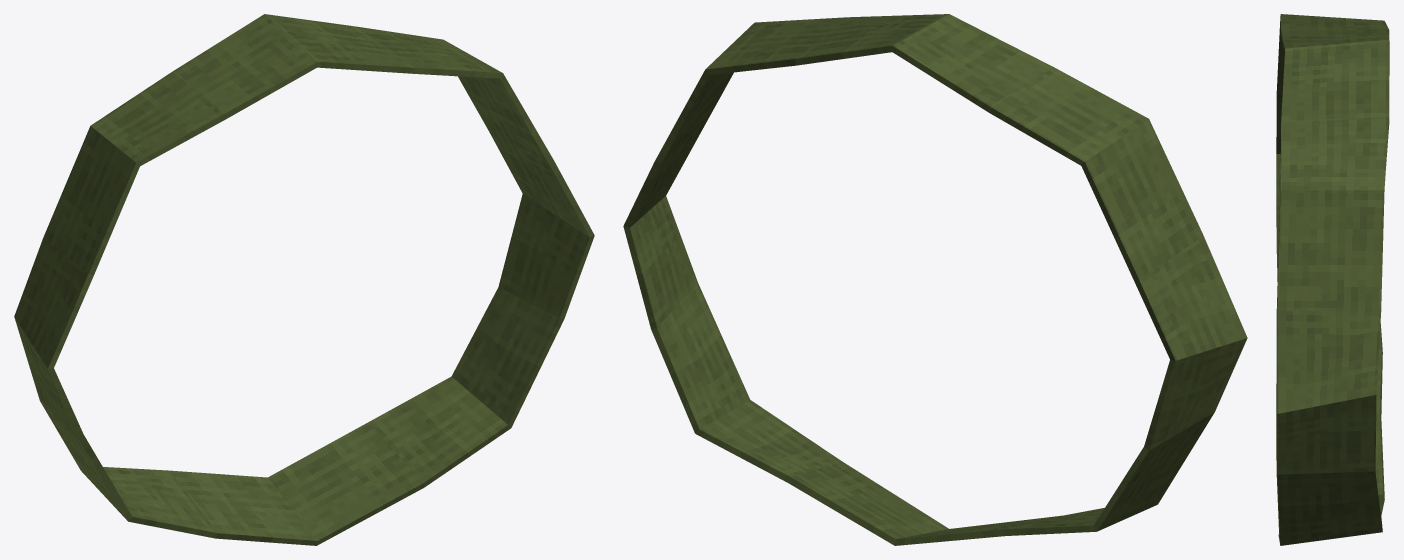
File: belt_web_vc.glb
3 views of the same model, side by side, from view 1: azimuth 30°, elevation 25°; view 2: azimuth 150°, elevation 25°; view 3: azimuth 270°, elevation 25° (orthographic). The views are drawn at different scales.
Parts seen in each view (by area): view 1: web_belt; view 2: web_belt; view 3: web_belt.
Part boxes in pixels (x1,y1,x2,y2): web_belt: (14, 14, 594, 545); web_belt: (623, 14, 1247, 545); web_belt: (1276, 14, 1389, 545).
Size of the model in its own units: 0.3557 by 0.3069 by 0.0647.
Materials: 1 (1 with a texture image).
